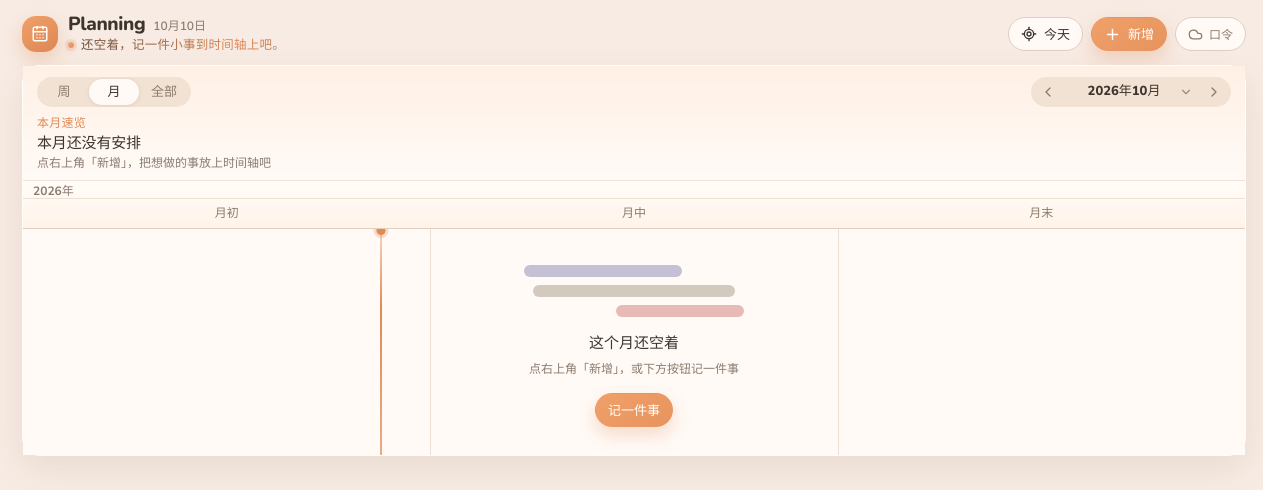
Test: Planning › switches to the all-tasks timeline scope
Click the tab "全部": coordinates (164, 92) [139,79,189,105]
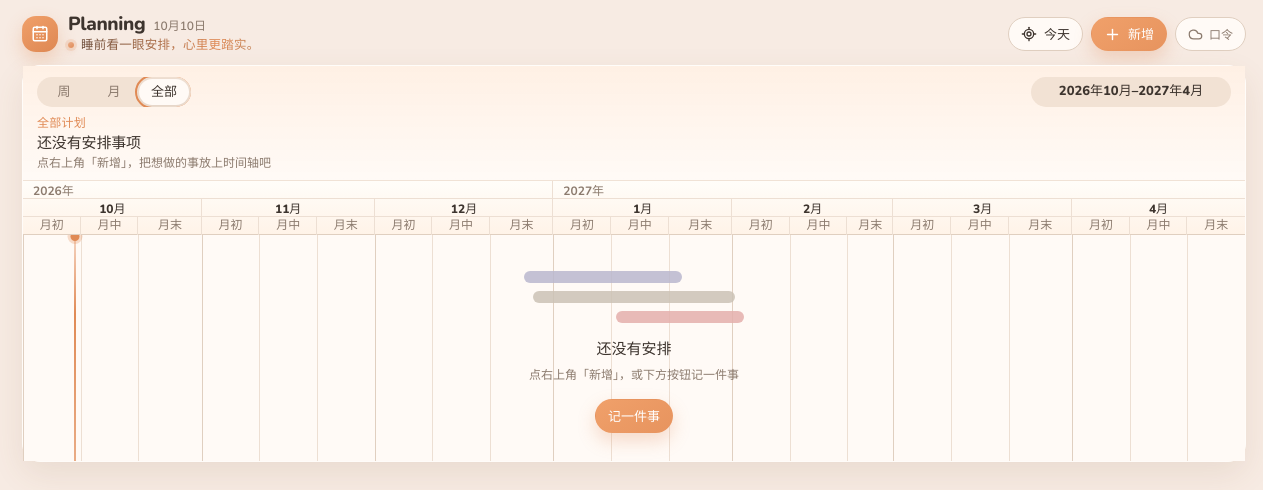
Now the text "全部计划" is shown, box [37,115,86,131]
Now the element named "整体时间范围" is shown, box [1031,77,1231,107]
